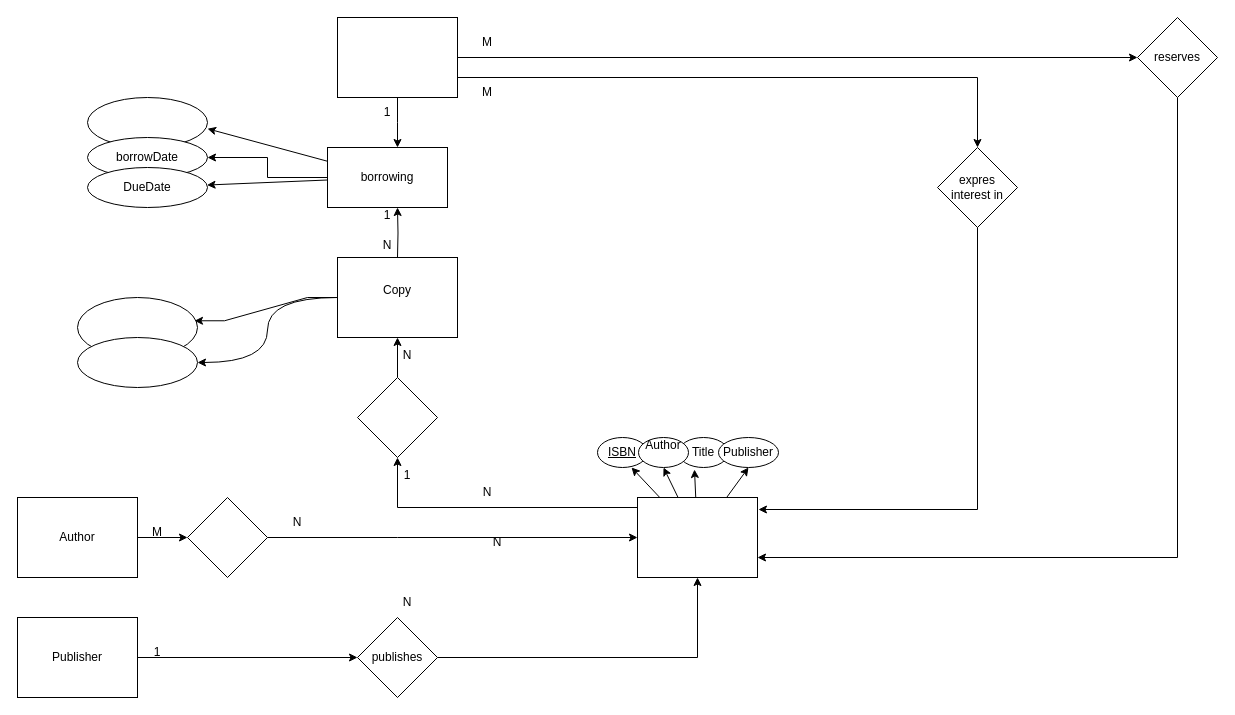
The diagram is 1235 pixels wide and 715 high, and some of its shapes have lost their labels. Here are the shapes that lost their labels. From the top down, the box of each, then its label:
(336, 16, 458, 98): Member
(86, 96, 208, 148): returnDate
(76, 296, 198, 358): status
(76, 336, 198, 388): copyID
(356, 376, 438, 458): has
(186, 496, 268, 578): writes
(636, 496, 758, 578): Library Item
